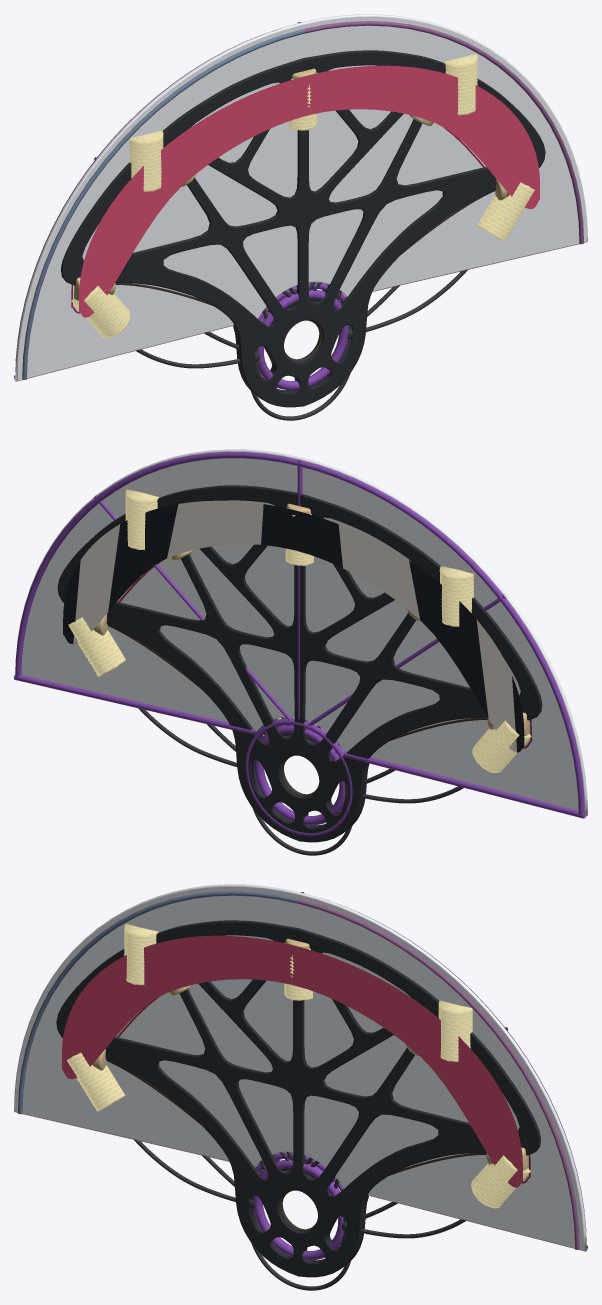
The model's file is fan.glb.
3 views of the same model, one above another, from view 1: azimuth 30°, elevation 25°; view 2: azimuth 150°, elevation 25°; view 3: azimuth 330°, elevation 25° (orthographic).
Visible parts, largest first — view 1: Fan_Moon_DiffusionSkin, Fan_Day_DoodleGripPlate, Fan_Cover_SolidFace, Fan_Lotus, Fan_Moon_LED_Segment_A, Fan_Moon_LED_Segment_B, Fan_Moon_GripRing, Fan_Fire, Fan_Lotus_LowerCradle, Fan_Lotus_LowerOuterPetal_Right, Fan_Lotus_LowerOuterPetal_Left; view 2: Fan_Moon_DiffusionSkin, Fan_Day_DoodleGripPlate, Fan_Cover_StripedFace, Fan_Lotus, Fan_Moon_OuterFrame, Fan_Moon_LowerFrame_A, Fan_Moon_LowerFrame_B, Fan_Moon_GripRing, Fan_Moon_GripGuard, Fan_Moon_DiagonalSupport_B, Fan_Fire, Fan_Lotus_LowerCradle (+2 smaller); view 3: Fan_Moon_DiffusionSkin, Fan_Day_DoodleGripPlate, Fan_Cover_SolidFace, Fan_Lotus, Fan_Moon_LED_Segment_B, Fan_Moon_LED_Segment_A, Fan_Moon_GripRing, Fan_Fire, Fan_Lotus_LowerCradle, Fan_Lotus_LowerOuterPetal_Left, Fan_Lotus_LowerOuterPetal_Right.
Part boxes in pixels (x1,y1,x2,y2): Fan_Moon_DiffusionSkin: (15,14,587,381); Fan_Day_DoodleGripPlate: (60,50,545,407); Fan_Cover_SolidFace: (79,65,539,317); Fan_Lotus: (71,53,534,338); Fan_Moon_LED_Segment_A: (22,29,304,379); Fan_Moon_LED_Segment_B: (303,21,583,244); Fan_Moon_GripRing: (258,289,348,390); Fan_Fire: (74,68,509,300); Fan_Lotus_LowerCradle: (250,373,350,420); Fan_Lotus_LowerOuterPetal_Right: (366,269,468,331); Fan_Lotus_LowerOuterPetal_Left: (135,349,240,368); Fan_Moon_DiffusionSkin: (16,449,587,816); Fan_Day_DoodleGripPlate: (57,485,542,842); Fan_Cover_StripedFace: (63,500,524,752); Fan_Lotus: (68,489,531,772); Fan_Moon_OuterFrame: (15,452,584,815); Fan_Moon_LowerFrame_A: (343,751,585,818); Fan_Moon_LowerFrame_B: (14,674,254,734); Fan_Moon_GripRing: (254,725,345,825); Fan_Moon_GripGuard: (245,718,352,836); Fan_Moon_DiagonalSupport_B: (94,495,294,726); Fan_Fire: (93,503,529,735); Fan_Lotus_LowerCradle: (252,808,352,855); Fan_Moon_DiffusionSkin: (14,884,586,1251); Fan_Day_DoodleGripPlate: (56,920,541,1277); Fan_Cover_SolidFace: (62,935,522,1187); Fan_Lotus: (67,923,530,1208); Fan_Moon_LED_Segment_B: (297,899,579,1249); Fan_Moon_LED_Segment_A: (18,891,298,1114); Fan_Moon_GripRing: (253,1159,343,1260); Fan_Fire: (92,938,527,1170); Fan_Lotus_LowerCradle: (251,1243,351,1290); Fan_Lotus_LowerOuterPetal_Left: (133,1139,235,1201); Fan_Lotus_LowerOuterPetal_Right: (361,1219,466,1238).
Bounding box in the file's own units: 0.6025 × 0.399 × 0.0351.
14 materials, 1 textured.
